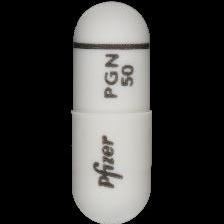54868-5494: (0, 0, 224, 224)
